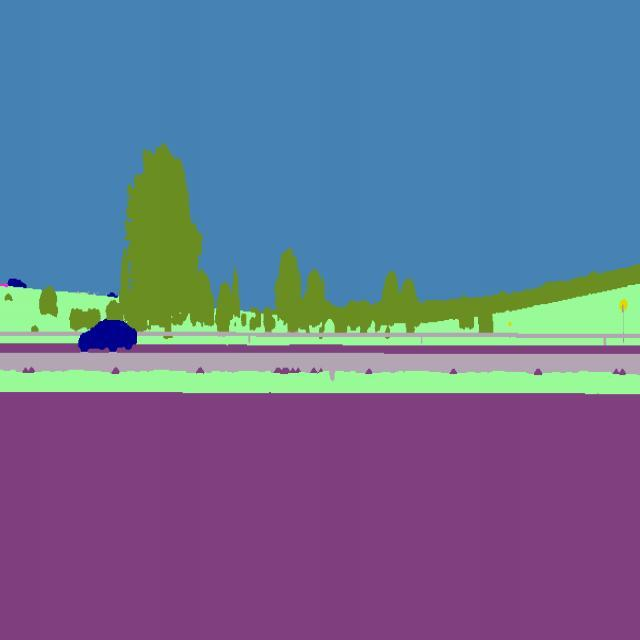safe: (76, 315, 140, 353)
